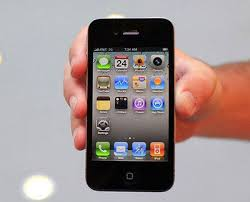iphone: (84, 15, 179, 196)
iphone4: (84, 15, 179, 196)
